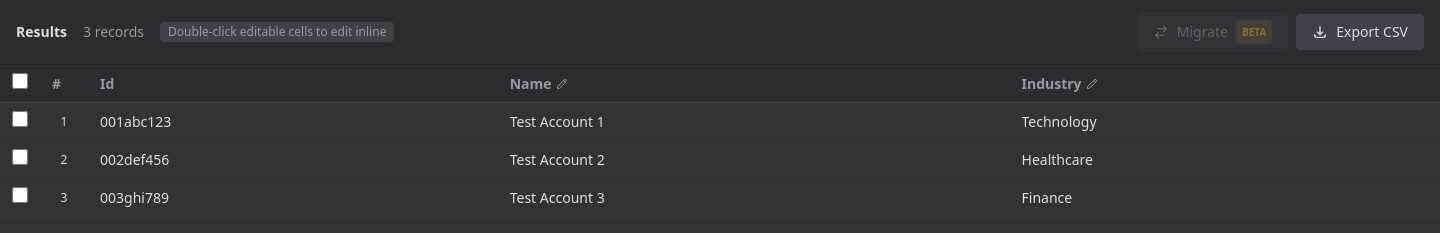
Test: ResultsTable › inline editing › should start editing when double-clicking an editable cell
// Find the Name cell for the first row and double-click
Double-click the text "Test Account 1": (557, 121) [510,112,605,130]
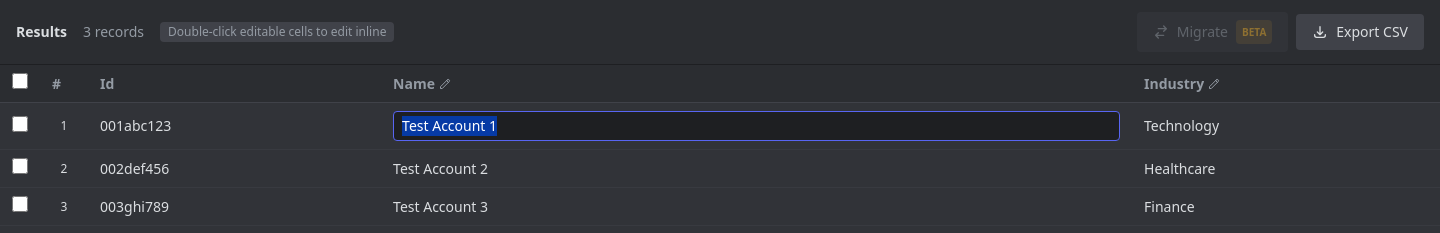
Expected: the field holds "Test Account 1", [393,111,1120,141]
